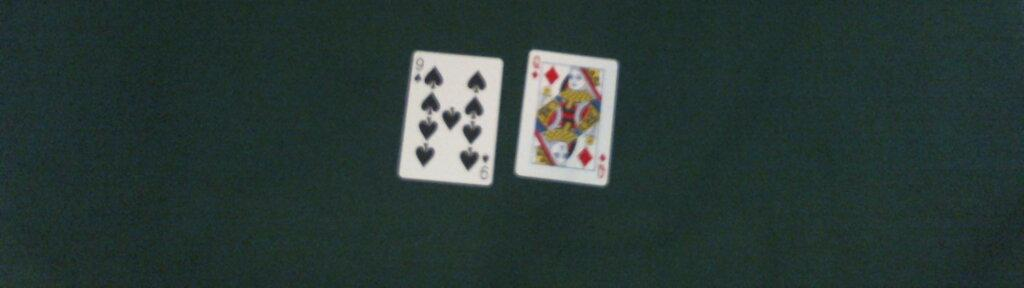nine: (395, 50, 503, 185)
queen: (514, 49, 619, 187)
